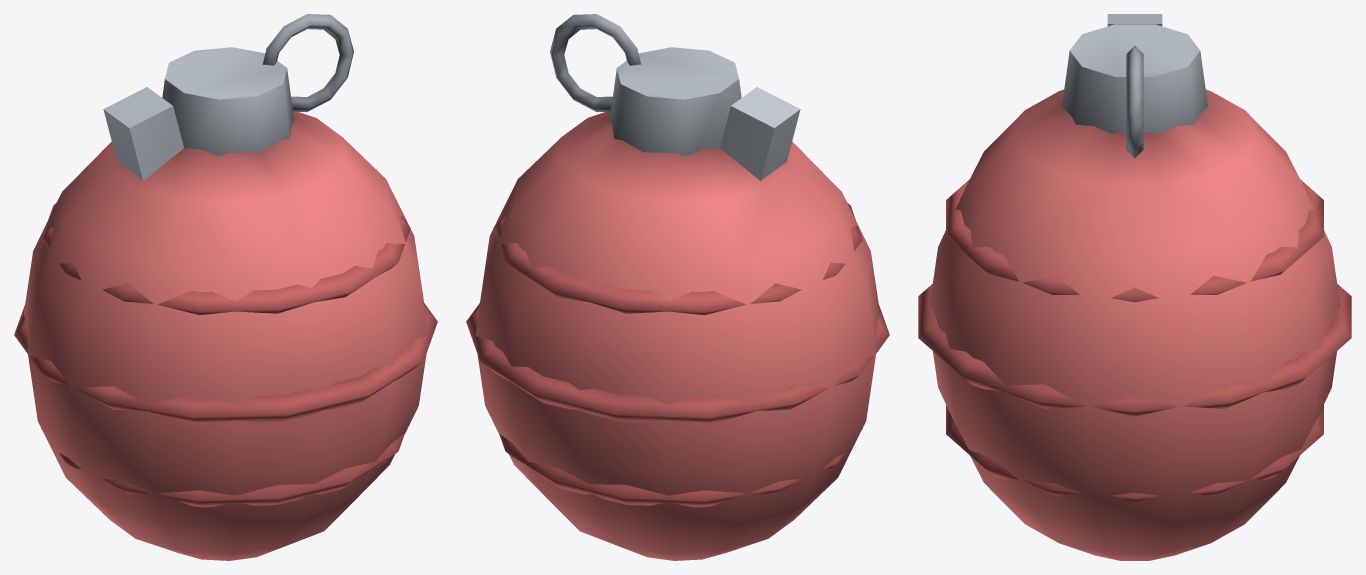
The model's file is ClusterGrenade.fbx.
The picture shows the model from 3 angles, left to right: view 1: azimuth 30°, elevation 25°; view 2: azimuth 150°, elevation 25°; view 3: azimuth 270°, elevation 25°; orthographic projection. The views are drawn at different scales.
Visible parts, largest first — view 1: grenade_cluster; view 2: grenade_cluster; view 3: grenade_cluster.
Boxes of the visible parts, x1,y1,x2,y2 form: grenade_cluster: (14,14,437,560); grenade_cluster: (466,14,889,560); grenade_cluster: (918,14,1351,560).
Size of the model in its own units: 0.3672 by 0.4878 by 0.358.
